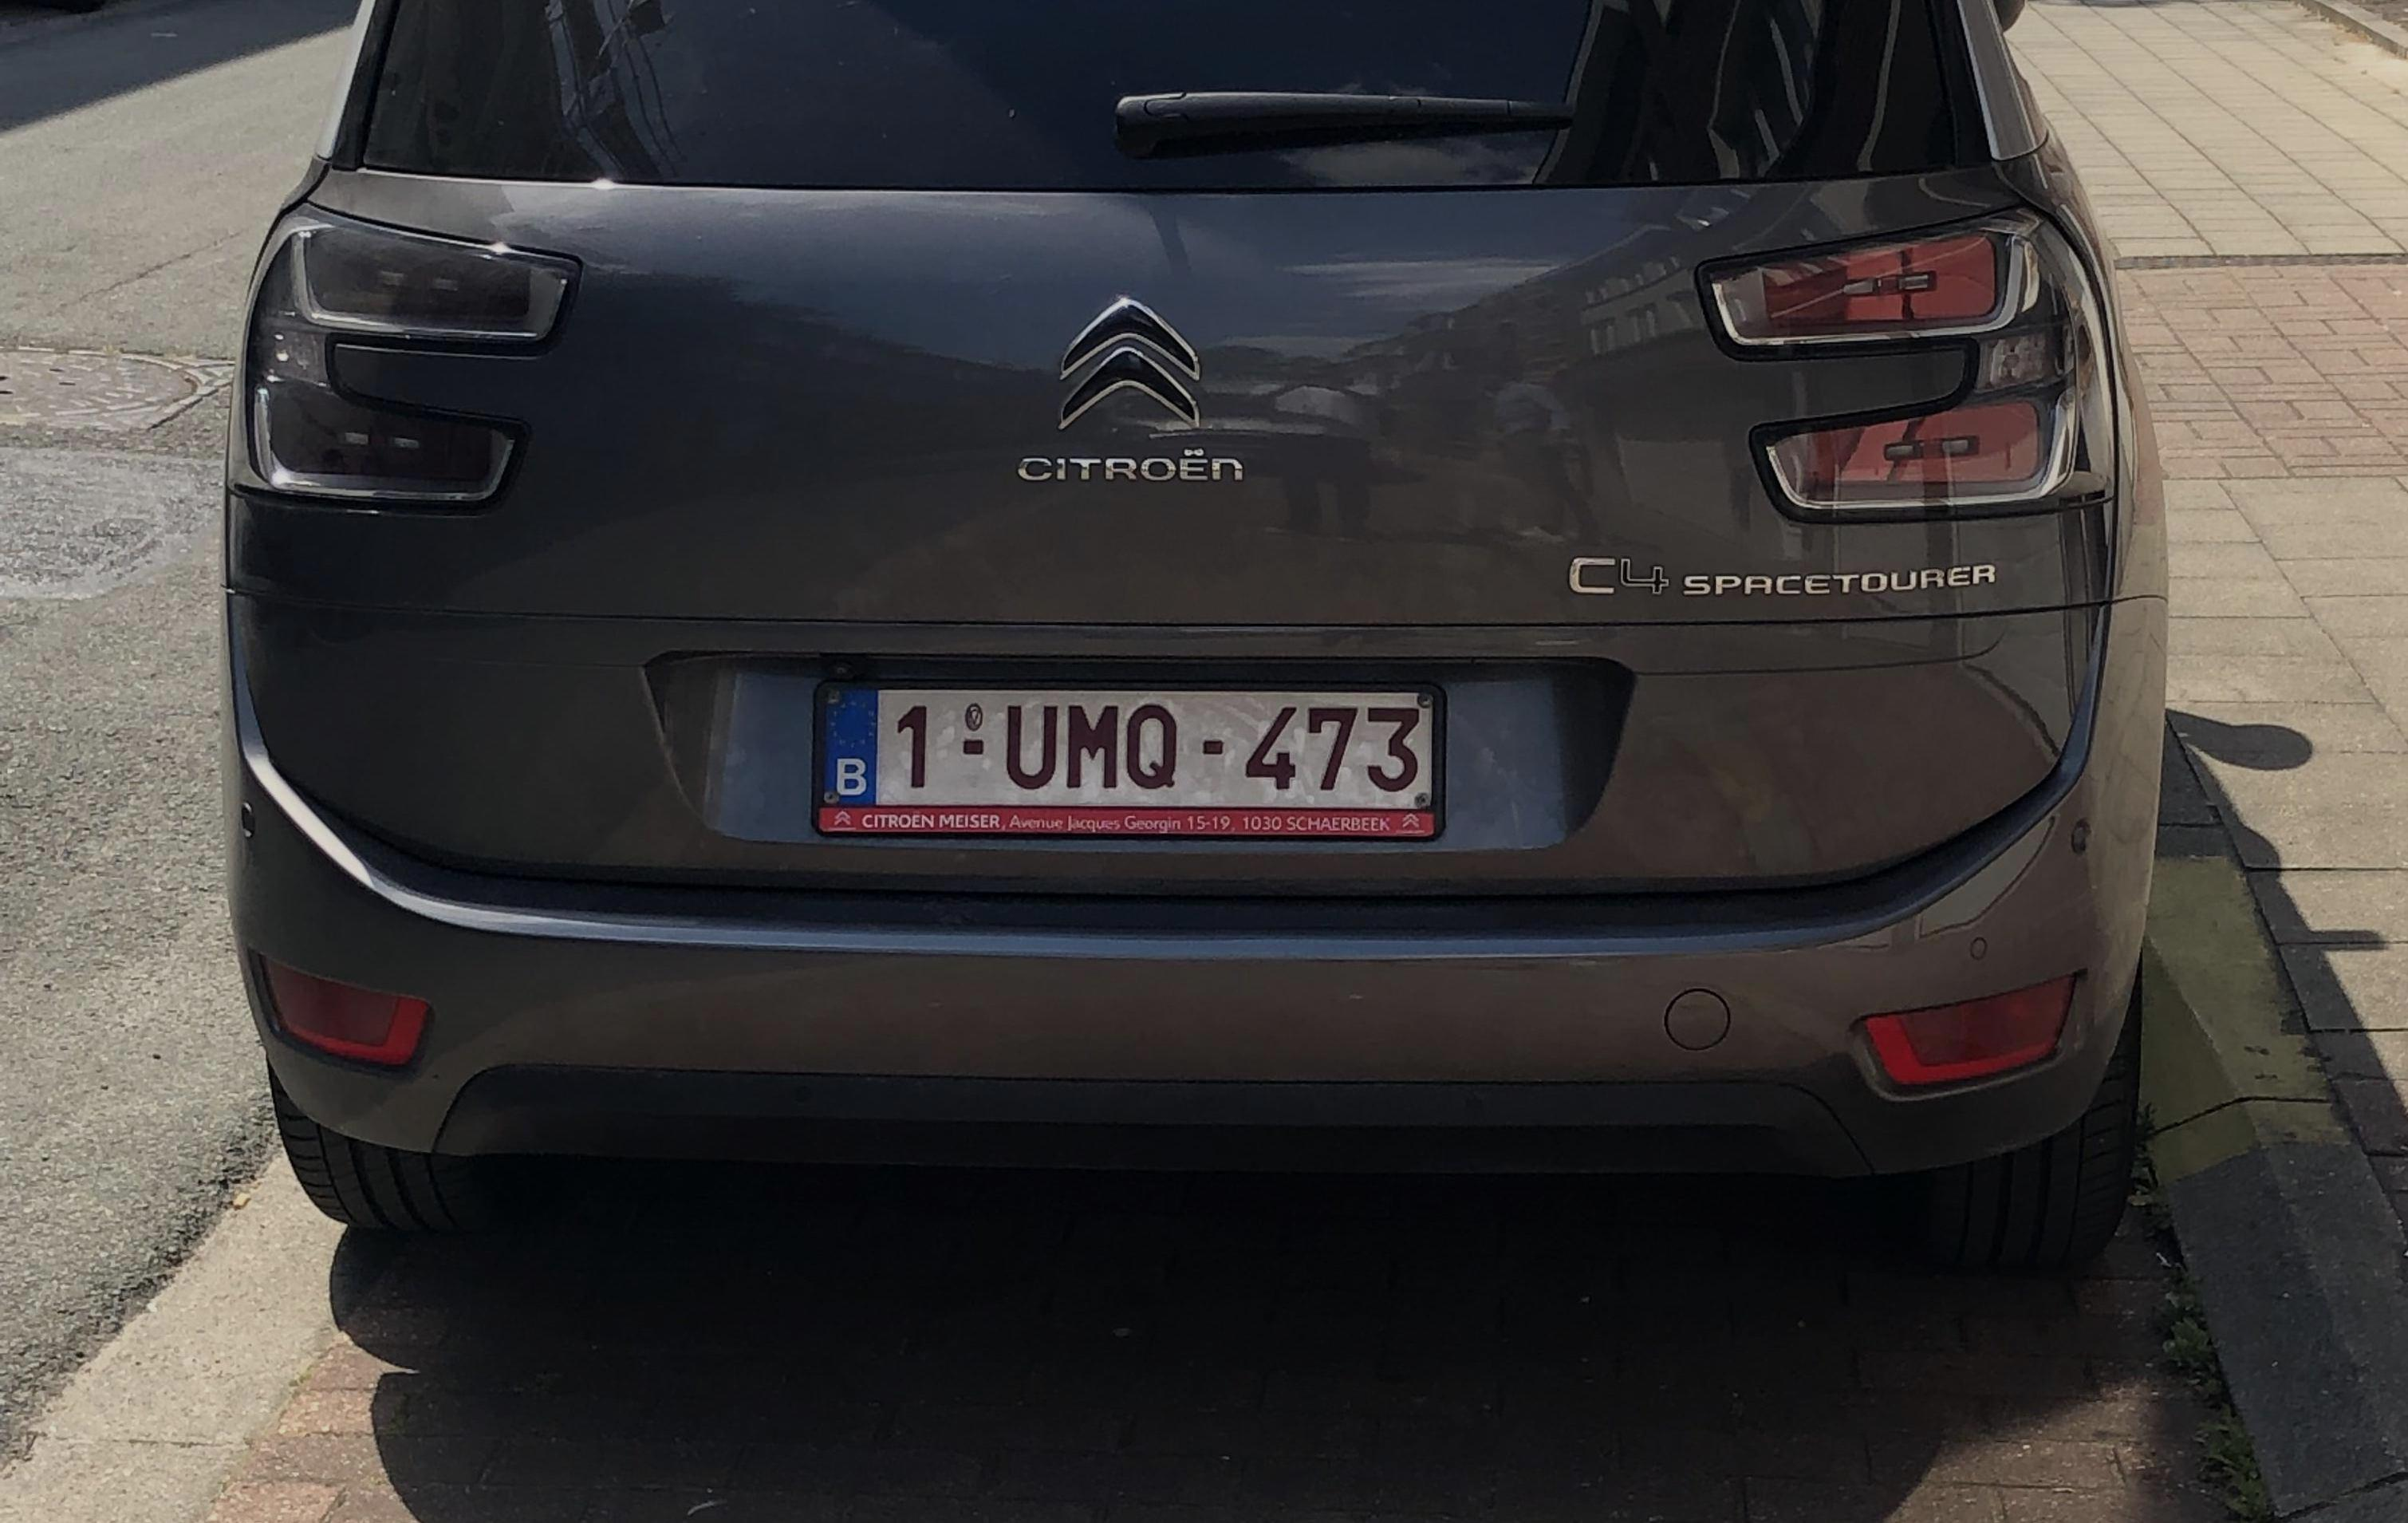plate: (792, 657, 1467, 811)
